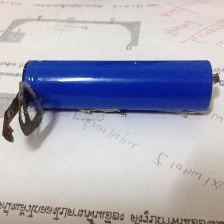battery: (17, 56, 214, 117)
